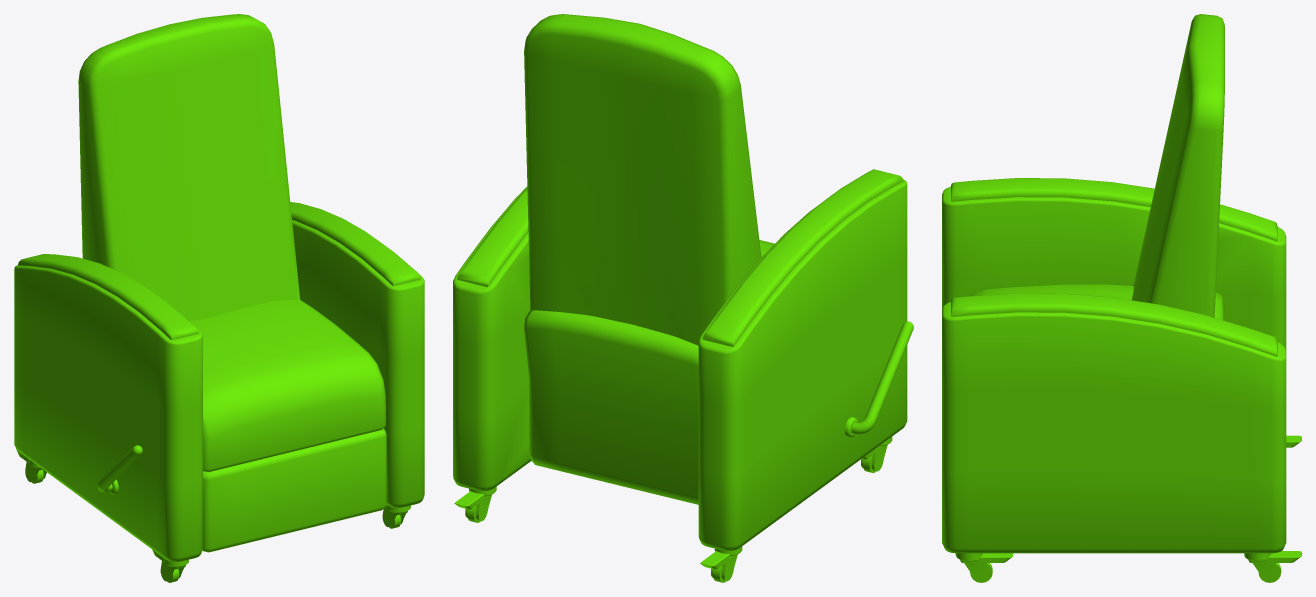
Rendered from Armshair_1.fbx.
The picture shows the model from 3 angles, left to right: view 1: azimuth 30°, elevation 25°; view 2: azimuth 150°, elevation 25°; view 3: azimuth 270°, elevation 25°; orthographic projection. The views are drawn at different scales.
Parts seen in each view (by area): view 1: Armchair_1; view 2: Armchair_1; view 3: Armchair_1.
Boxes of the visible parts, x1,y1,x2,y2 form: Armchair_1: (14,14,424,582); Armchair_1: (453,14,913,582); Armchair_1: (942,14,1301,582).
Size of the model in its own units: 78.13 by 121 by 82.31.
